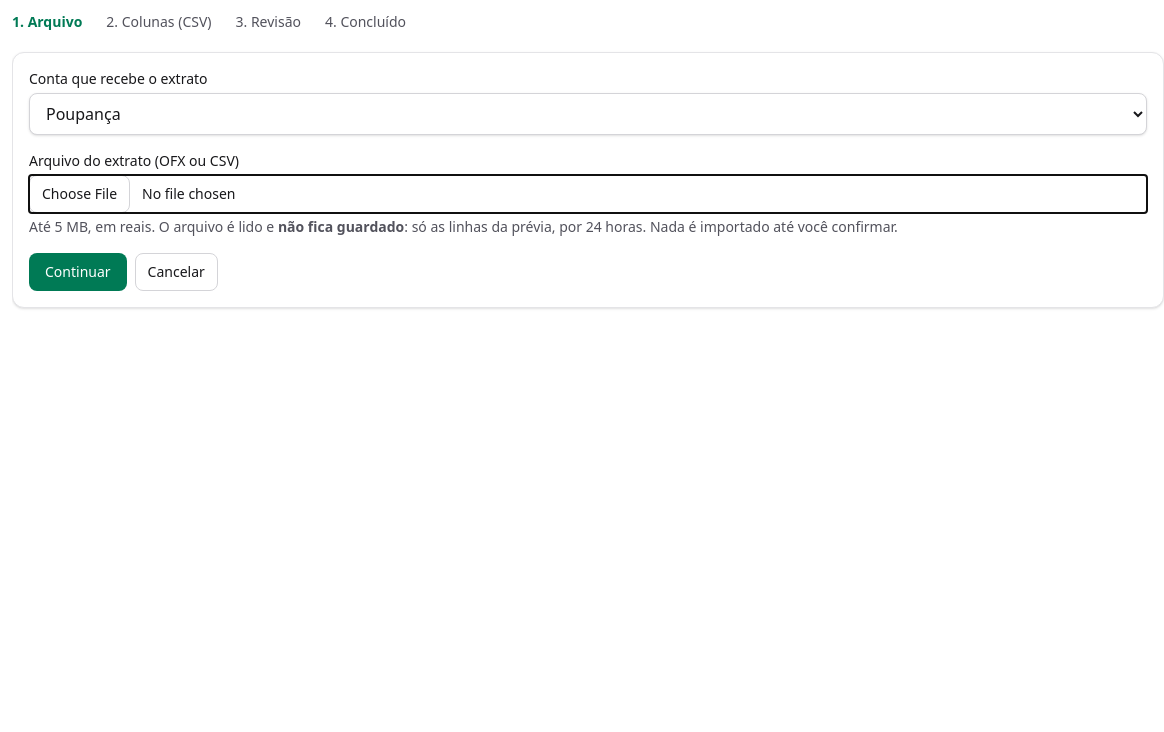
Scenario: ImportWizard › OFX vai direto para a prévia, sem passo de colunas, com a conta escolhida
The width and height of the screenshot is (1164, 732).
Earlier steps of the test are not shown.
What coordinates should you click on to do the following:
click the button "Continuar"
I would click on:
 (78, 272)
Its box is [29, 253, 127, 291].
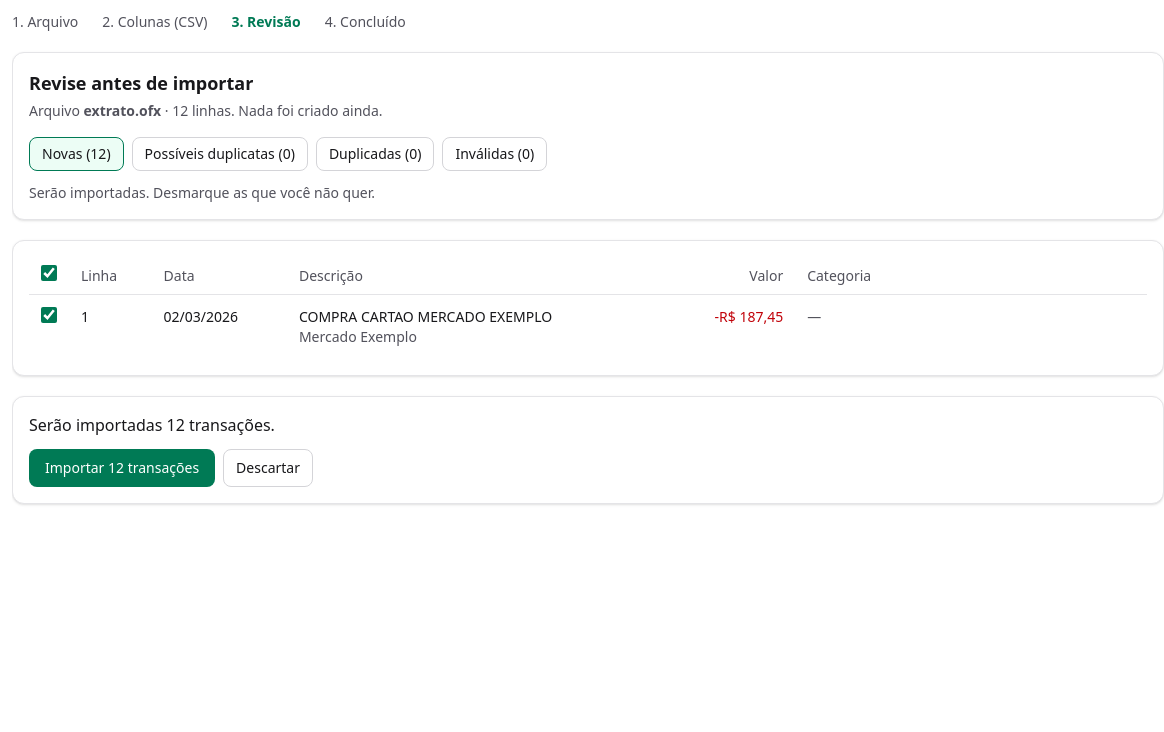
Now the text "extrato.ofx" is shown, box [84, 101, 161, 120]
Now the heading "Revise antes de importar" is shown, box [29, 71, 253, 95]
Now the text "Arquivo extrato.ofx · 12 linhas. Nada foi criado ainda." is shown, box [29, 101, 382, 120]
